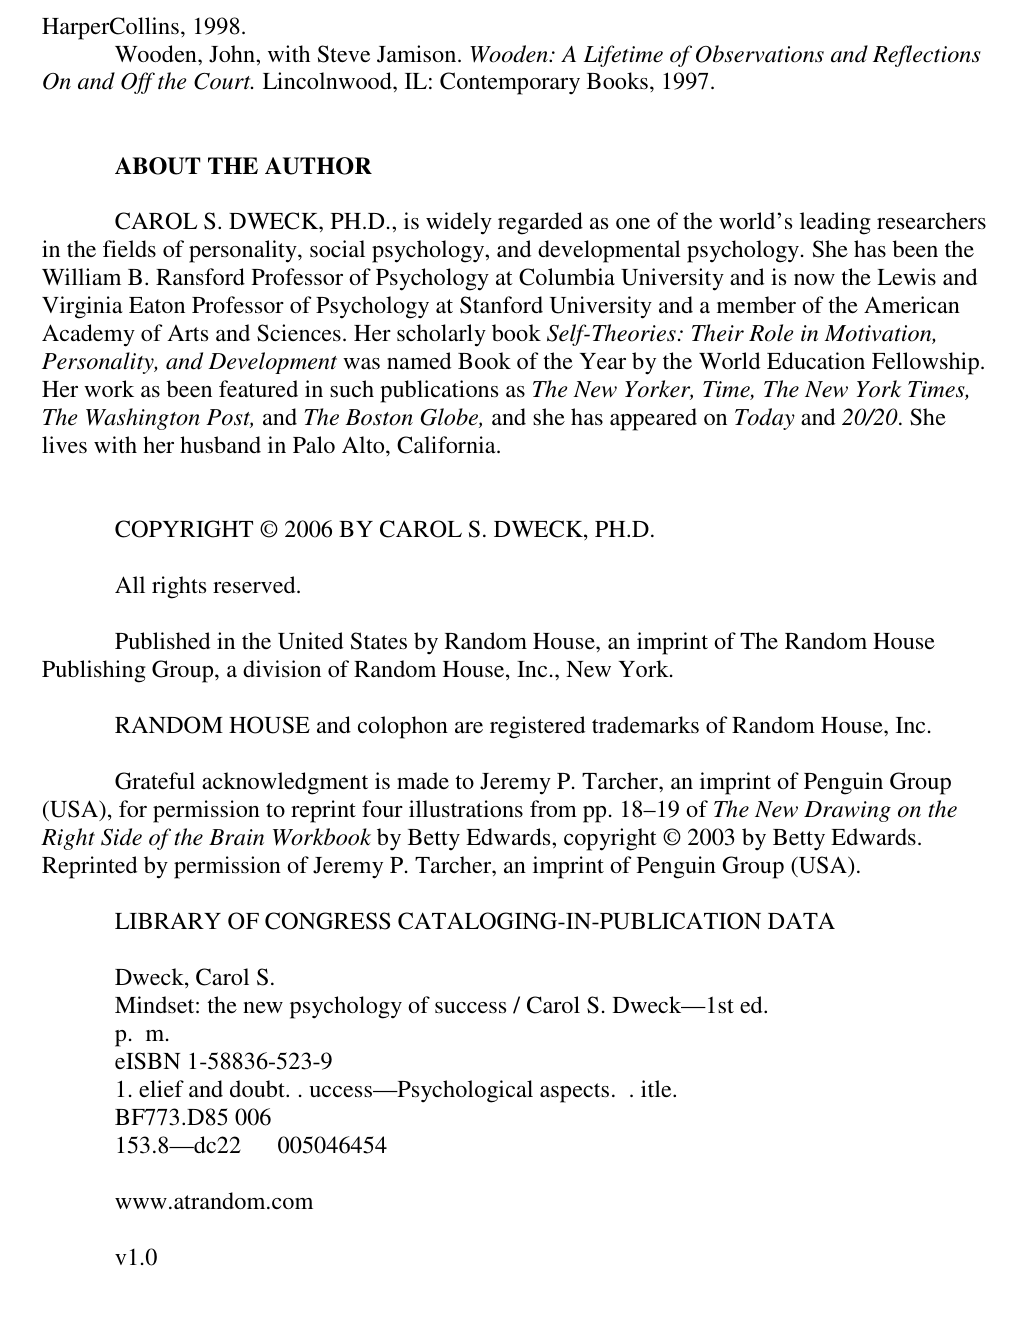latin: (37, 200, 991, 478), (107, 961, 767, 1161), (37, 762, 962, 893), (36, 8, 983, 108), (39, 619, 940, 685), (114, 709, 933, 741), (109, 905, 844, 939), (111, 510, 658, 551), (111, 150, 376, 178), (113, 569, 306, 602), (107, 1193, 323, 1221), (113, 1245, 157, 1275)
